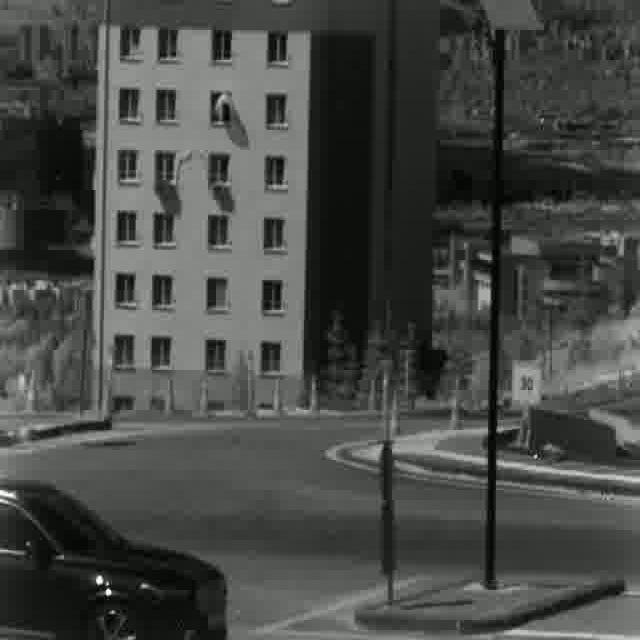Car: (0, 482, 225, 640)
